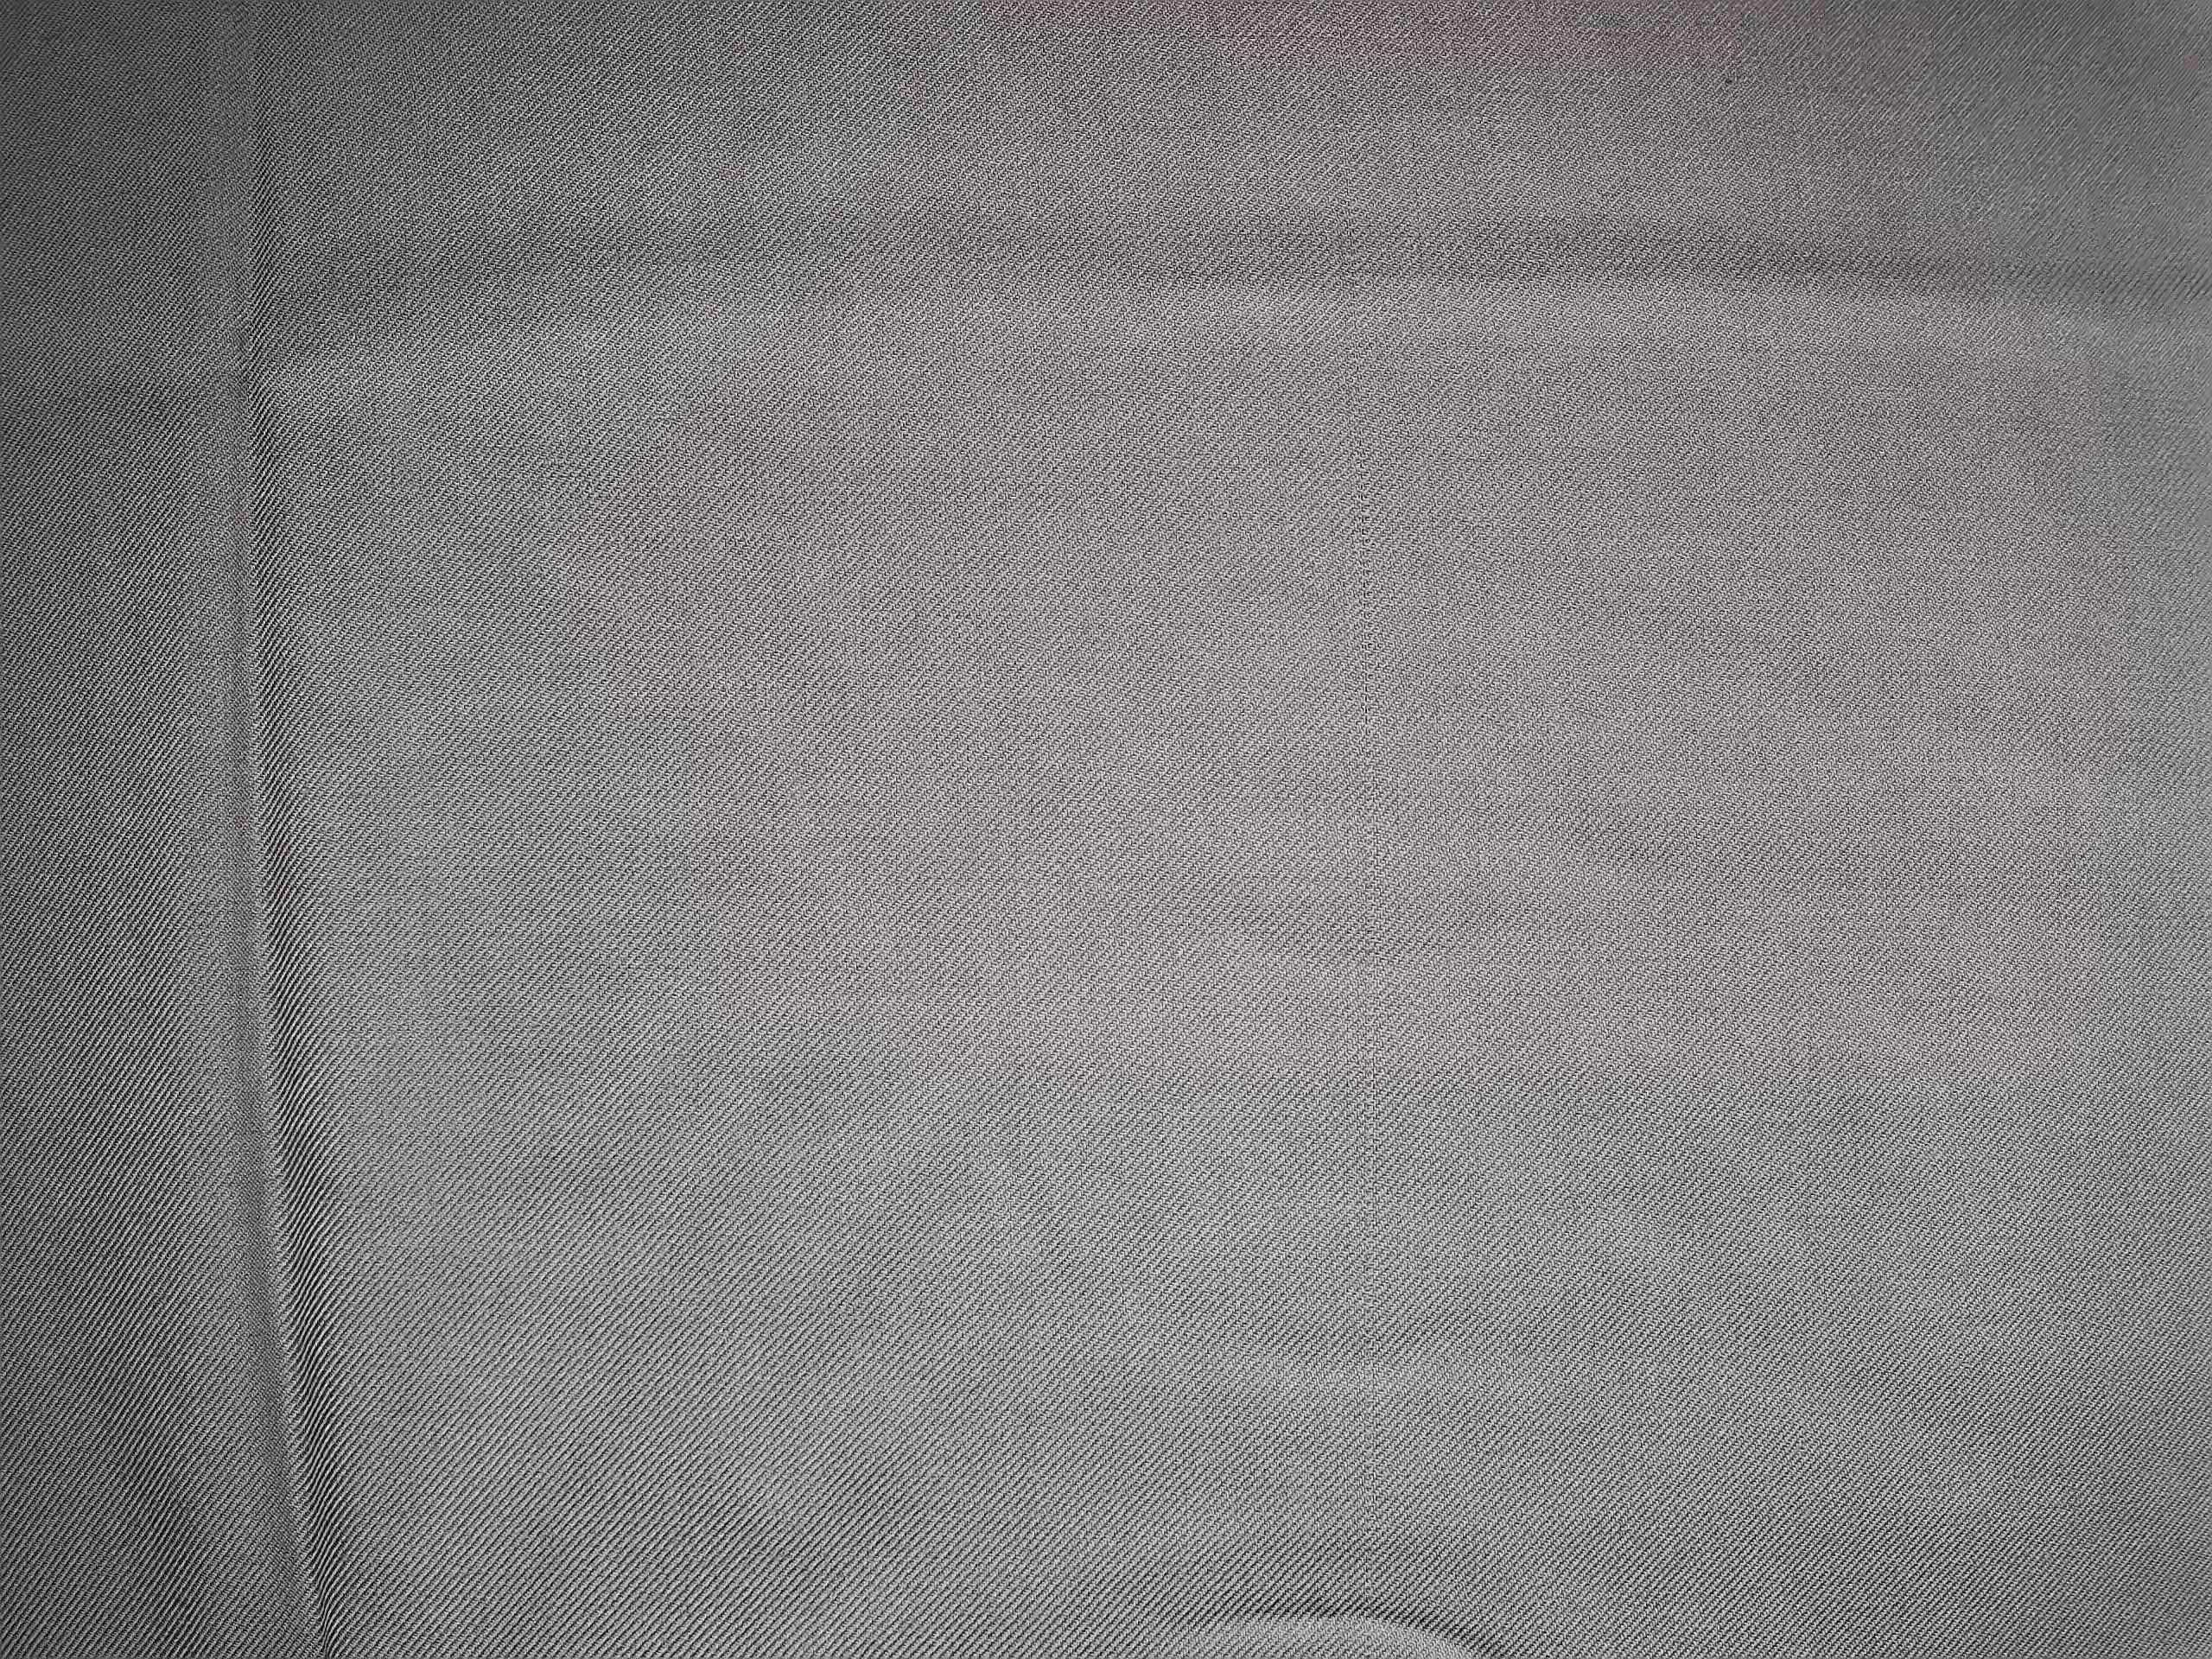hanging-warp: (1325, 26, 1404, 1270)
